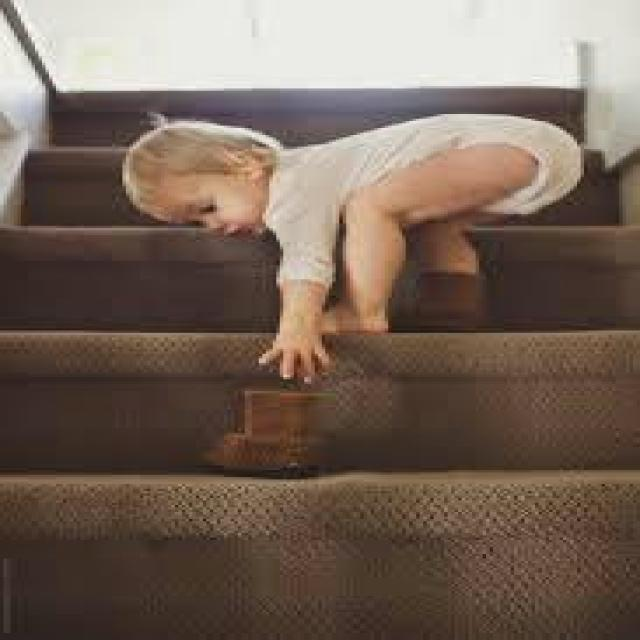child: (112, 98, 577, 386)
